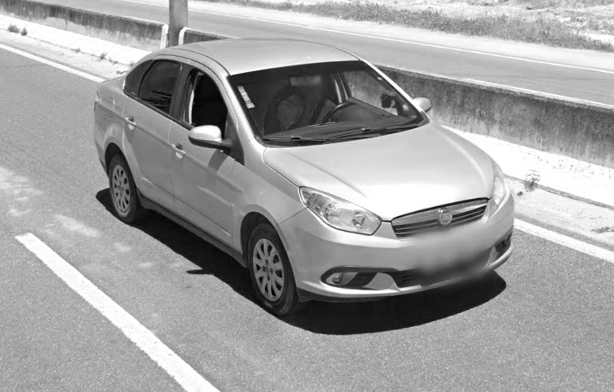car: (90, 35, 517, 317)
